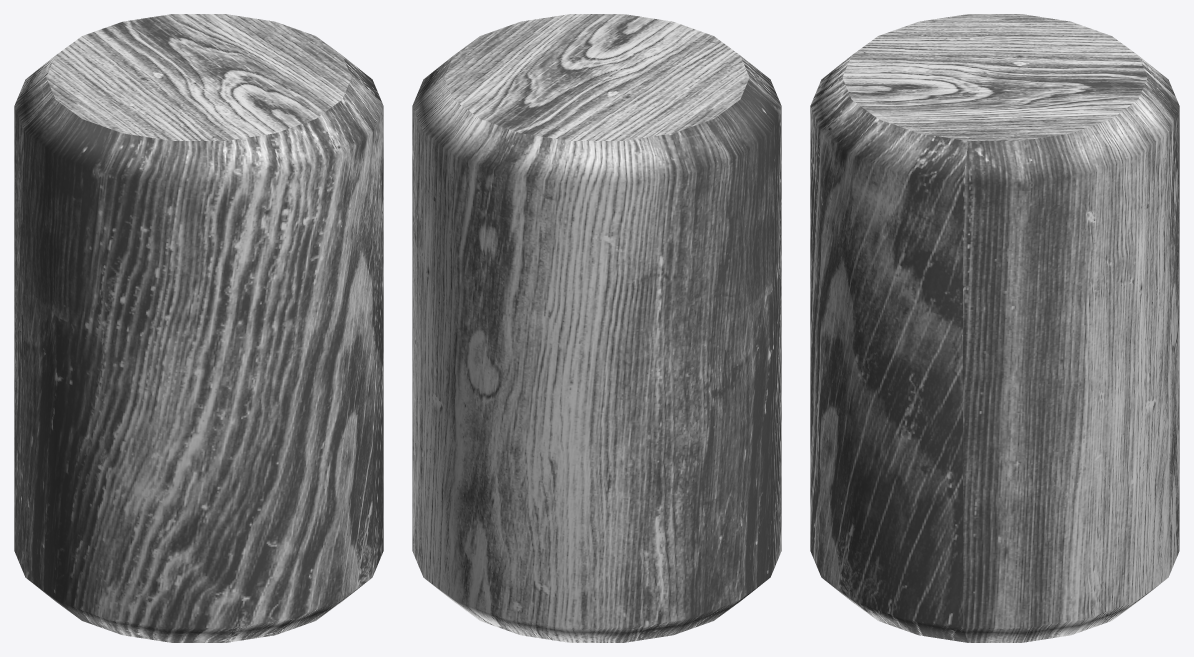
Rendered from SM_Toy_A4.fbx.
The picture shows the model from 3 angles, left to right: view 1: azimuth 30°, elevation 25°; view 2: azimuth 150°, elevation 25°; view 3: azimuth 270°, elevation 25°; orthographic projection.
Parts seen in each view (by area): view 1: SM_Toy_A4; view 2: SM_Toy_A4; view 3: SM_Toy_A4.
Part boxes in pixels (x1,y1,x2,y2): SM_Toy_A4: [14, 14, 383, 642]; SM_Toy_A4: [412, 14, 781, 642]; SM_Toy_A4: [810, 14, 1179, 642].
Size of the model in its own units: 9.81 by 9.97 by 14.94.
1 material, 1 textured.
